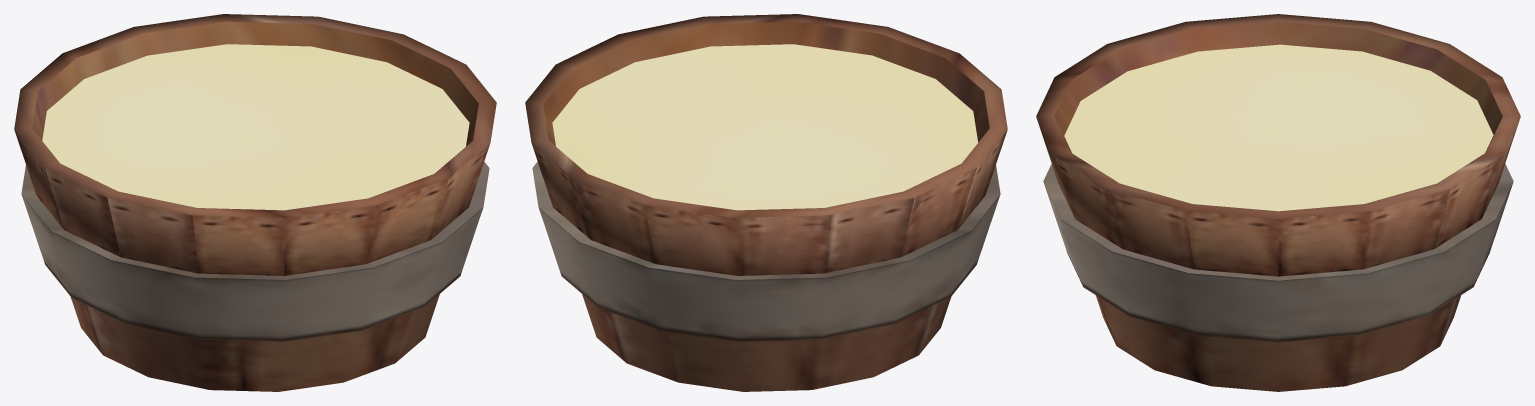
The model's file is CheeseMold_Liquid.fbx.
3 views of the same model, side by side, from view 1: azimuth 30°, elevation 25°; view 2: azimuth 150°, elevation 25°; view 3: azimuth 270°, elevation 25° (orthographic).
Parts seen in each view (by area): view 1: Wooden_CheeseMold.001; view 2: Wooden_CheeseMold.001; view 3: Wooden_CheeseMold.001.
Part boxes in pixels (<box>): Wooden_CheeseMold.001: <box>14,14,496,391</box>; Wooden_CheeseMold.001: <box>525,14,1007,391</box>; Wooden_CheeseMold.001: <box>1036,14,1520,391</box>.
Size of the model in its own units: 55.73 by 25.55 by 55.73.
